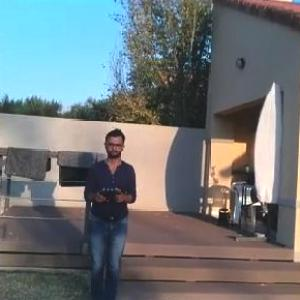follow: (77, 123, 142, 299)
